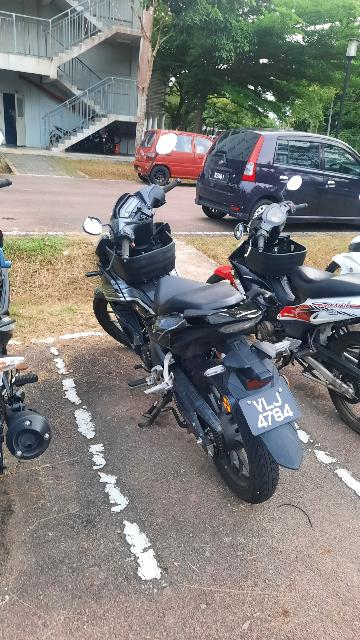License_Plate: (236, 383, 313, 433)
car: (195, 121, 360, 238), (132, 120, 232, 190)
motorcycle: (89, 133, 305, 506), (206, 178, 360, 435)
